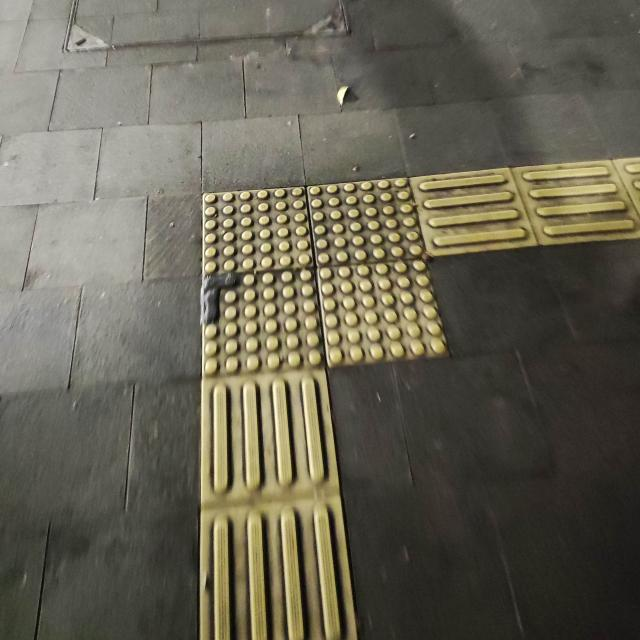kanan: (156, 140, 640, 418)
